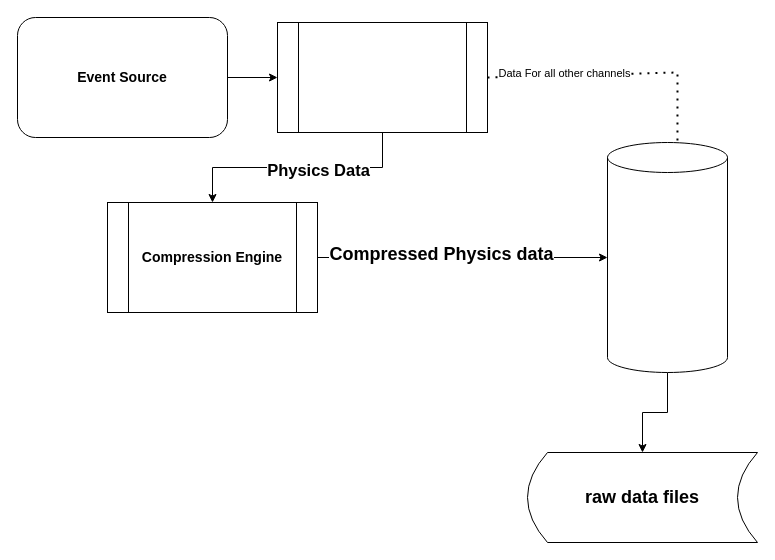
This 775x560 diagram has some shape labels left out. The shapes that lost their labels are listed below. From the top down, each one's centre as x and y in pixels, then its label:
At point (382, 77): "Event Builder".
At point (667, 257): "File Writer".
